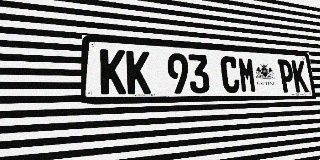3: (188, 54, 210, 93)
9: (167, 53, 190, 94)
C: (220, 56, 240, 93)
K: (100, 49, 126, 94), (126, 50, 151, 94), (291, 60, 309, 92)
M: (237, 57, 257, 93)
P: (277, 59, 295, 92)
